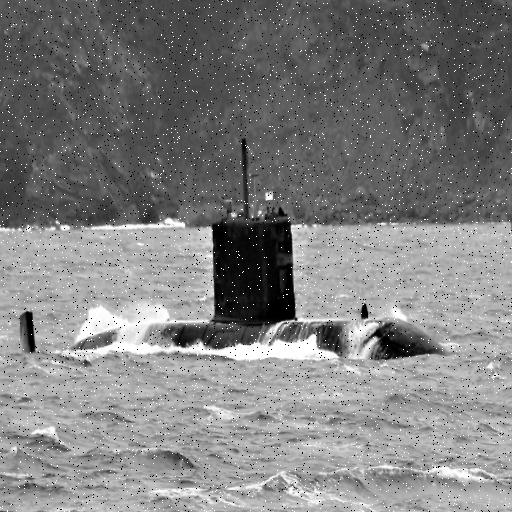submarine: (18, 203, 458, 355)
